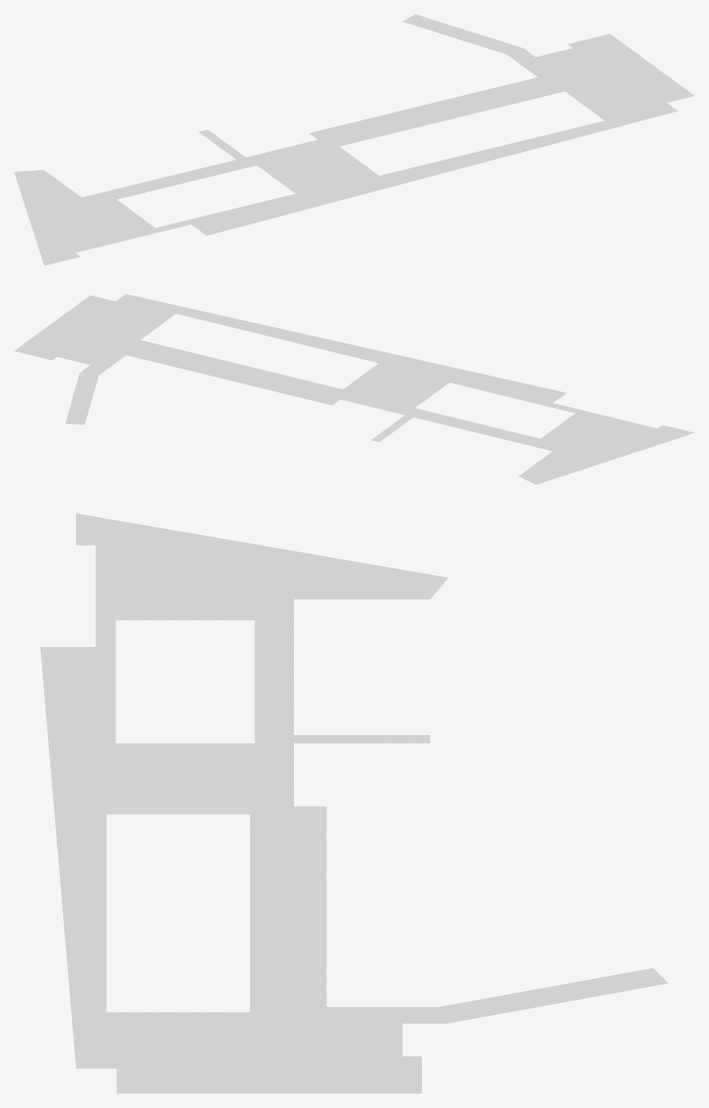
The model's file is Asfalto.glb.
The picture shows the model from 3 angles, top to bottom: view 1: azimuth 30°, elevation 25°; view 2: azimuth 150°, elevation 25°; view 3: azimuth 270°, elevation 25°; orthographic projection. The views are drawn at different scales.
Parts seen in each view (by area): view 1: Asfalto_non_percorribile; view 2: Asfalto_non_percorribile; view 3: Asfalto_non_percorribile.
Boxes of the visible parts, x1=… form: Asfalto_non_percorribile: x1=14, y1=14, x2=694, y2=265; Asfalto_non_percorribile: x1=14, y1=294, x2=694, y2=484; Asfalto_non_percorribile: x1=40, y1=513, x2=667, y2=1093.
Bounding box in the file's own units: 230 × 1.77e-05 × 105.
Materials: 1 (1 with a texture image).
